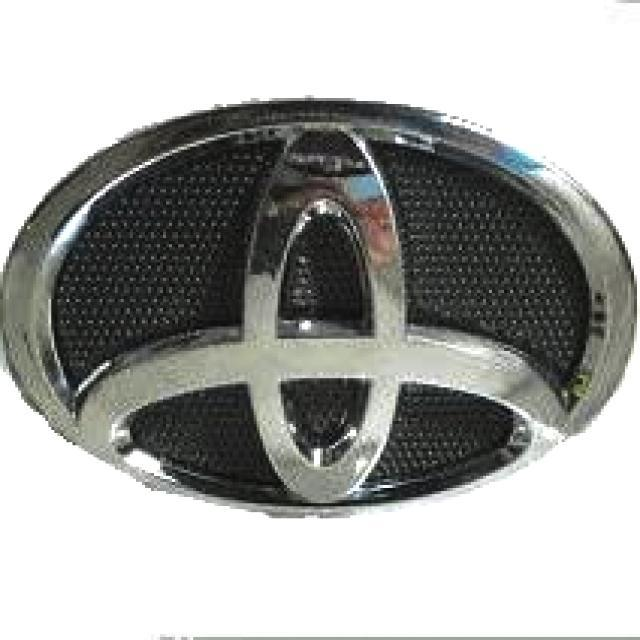toyota: (0, 71, 640, 545)
